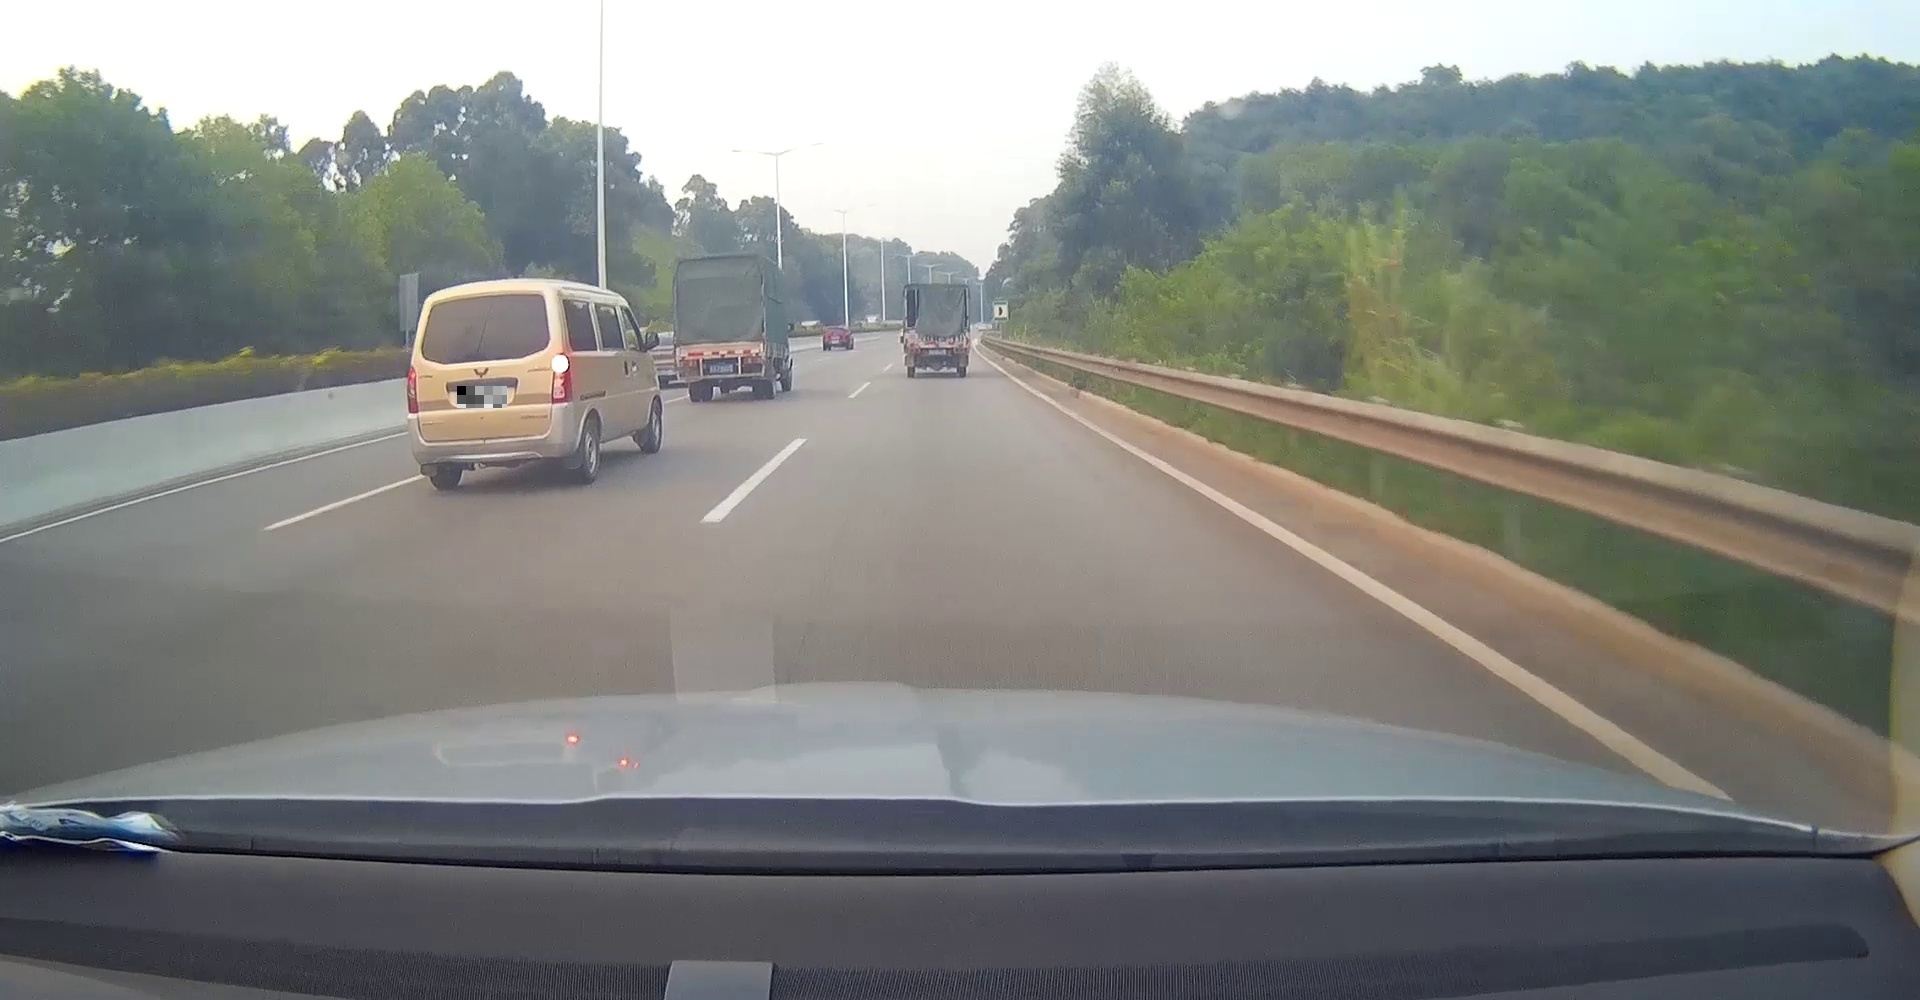L_light: (405, 364, 419, 414), (681, 360, 698, 368), (908, 349, 919, 354)
R_light: (550, 353, 573, 404), (743, 357, 762, 364), (952, 346, 968, 354)
T_light: (472, 296, 497, 302), (717, 350, 728, 355), (932, 343, 943, 346)
day-no: (670, 250, 770, 402), (902, 282, 970, 378)
day-right: (403, 278, 577, 492)
plate_1: (457, 386, 507, 409)
